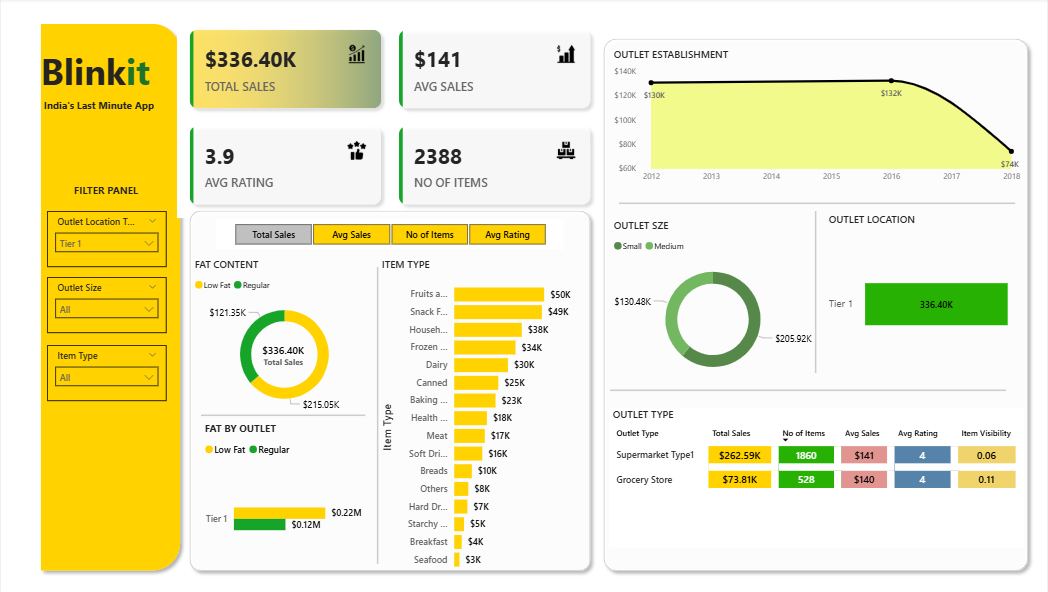

This screenshot's page, from the dashboard's own definition file:
{"tool":"powerbi","page":{"name":"Page 1","canvas":[1400,800],"ordinal":0},"visuals":[{"type":"shape","box":[43.7,25.6,204.7,749.7],"z":0},{"type":"textbox","box":[282.5,649.8,205.2,72.9],"z":1000},{"type":"textbox","box":[48.2,58.7,173.1,102.4],"z":2000},{"type":"textbox","box":[535.3,337.5,205.2,62.5],"z":3000},{"type":"textbox","box":[52.7,129.5,158.1,31.6],"z":4000},{"type":"cardVisual","fields":{"Data":["BlinkIT Grocery Data.Total Sales","BlinkIT Grocery Data.Avg Sales","BlinkIT Grocery Data.Avg Rating","BlinkIT Grocery Data.No of Items"]},"box":[234.8,25.6,570.5,269.5],"z":5000},{"type":"shape","box":[243.9,275.5,554,499.8],"z":6000},{"type":"slicer","fields":{"Values":["Metrics.Metrics"]},"box":[287.5,295.1,465.2,40.6],"z":7000},{"type":"cardVisual","fields":{"Data":["BlinkIT Grocery Data.Total Sales"]},"box":[325.2,442.6,105.4,69.2],"z":8000},{"type":"clusteredBarChart","title":"FAT BY OUTLET","fields":{"Y":["BlinkIT Grocery Data.Total Sales"],"Category":["BlinkIT Grocery Data.Outlet Location Type"],"Series":["BlinkIT Grocery Data.Item Fat Content"]},"box":[268,567.5,219.8,207.7],"z":9000},{"type":"shape","box":[268,548,219.8,19.6],"z":10000},{"type":"shape","box":[472.7,359.8,63.2,397.4],"z":11000},{"type":"barChart","title":"ITEM TYPE","fields":{"Y":["BlinkIT Grocery Data.Total Sales"],"Category":["BlinkIT Grocery Data.Item Type"]},"box":[504.3,347.7,271,427.5],"z":12000},{"type":"shape","box":[797.8,45.2,585.6,730.1],"z":13000},{"type":"lineChart","title":"OUTLET ESTABLISHMENT","fields":{"Category":["BlinkIT Grocery Data.Outlet Establishment Year"],"Y":["BlinkIT Grocery Data.Total Sales"]},"box":[814.4,66.2,554,189.7],"z":14000},{"type":"shape","box":[826.5,264.9,529.9,19.6],"z":15000},{"type":"donutChart","title":"OUTLET SZE","fields":{"Y":["BlinkIT Grocery Data.Total Sales"],"Category":["BlinkIT Grocery Data.Outlet Size"]},"box":[814.4,295.1,275.5,224.3],"z":16000},{"type":"shape","box":[1058.3,284.5,63.2,216.8],"z":17000},{"type":"funnel","title":"OUTLET LOCATION","fields":{"Category":["BlinkIT Grocery Data.Outlet Location Type"],"Y":["Sum(BlinkIT Grocery Data.Sales)"]},"box":[1101.9,287.5,254.4,225.8],"z":18000},{"type":"shape","box":[814.4,514.8,529.9,19.6],"z":19000},{"type":"pivotTable","title":"OUTLET TYPE","fields":{"Rows":["BlinkIT Grocery Data.Outlet Type"],"Values":["BlinkIT Grocery Data.Total Sales","BlinkIT Grocery Data.No of Items","BlinkIT Grocery Data.Avg Sales","BlinkIT Grocery Data.Avg Rating","Avg(BlinkIT Grocery Data.Item Visibility)"]},"box":[812.9,548,555.5,186.7],"z":20000},{"type":"donutChart","title":"FAT CONTENT","fields":{"Y":["BlinkIT Grocery Data.Total Sales"],"Category":["BlinkIT Grocery Data.Item Fat Content"]},"box":[254.4,347.7,249.9,213.8],"z":21000},{"type":"slicer","fields":{"Values":["BlinkIT Grocery Data.Outlet Location Type"]},"box":[61.7,284.5,159.6,75.3],"z":22000},{"type":"slicer","fields":{"Values":["BlinkIT Grocery Data.Outlet Size"]},"box":[61.7,373.3,159.6,75.3],"z":23000},{"type":"slicer","fields":{"Values":["BlinkIT Grocery Data.Item Type"]},"box":[61.7,463.7,159.6,75.3],"z":24000},{"type":"textbox","box":[61.7,243.9,158.1,31.6],"z":25000}]}

Visuals, with their boxes in screenshot pixels (x1, y1, x2, y2), scaled from the page's 1400x800 canvas onto the 1048x592 screenshot:
shape: (33,19,186,574)
textbox: (211,481,365,535)
textbox: (36,43,166,119)
textbox: (401,250,554,296)
textbox: (39,96,158,119)
cardVisual - BlinkIT Grocery Data.Total Sales x BlinkIT Grocery Data.Avg Sales: (176,19,603,218)
shape: (183,204,597,574)
slicer - Metrics.Metrics: (215,218,563,248)
cardVisual - BlinkIT Grocery Data.Total Sales: (243,328,322,379)
"FAT BY OUTLET" clusteredBarChart: (201,420,365,574)
shape: (201,406,365,420)
shape: (354,266,401,560)
"ITEM TYPE" barChart: (378,257,580,574)
shape: (597,33,1036,574)
"OUTLET ESTABLISHMENT" lineChart: (610,49,1024,189)
shape: (619,196,1015,211)
"OUTLET SZE" donutChart: (610,218,816,384)
shape: (792,211,840,371)
"OUTLET LOCATION" funnel: (825,213,1015,380)
shape: (610,381,1006,395)
"OUTLET TYPE" pivotTable: (609,406,1024,544)
"FAT CONTENT" donutChart: (190,257,378,416)
slicer - BlinkIT Grocery Data.Outlet Location Type: (46,211,166,266)
slicer - BlinkIT Grocery Data.Outlet Size: (46,276,166,332)
slicer - BlinkIT Grocery Data.Item Type: (46,343,166,399)
textbox: (46,180,165,204)
